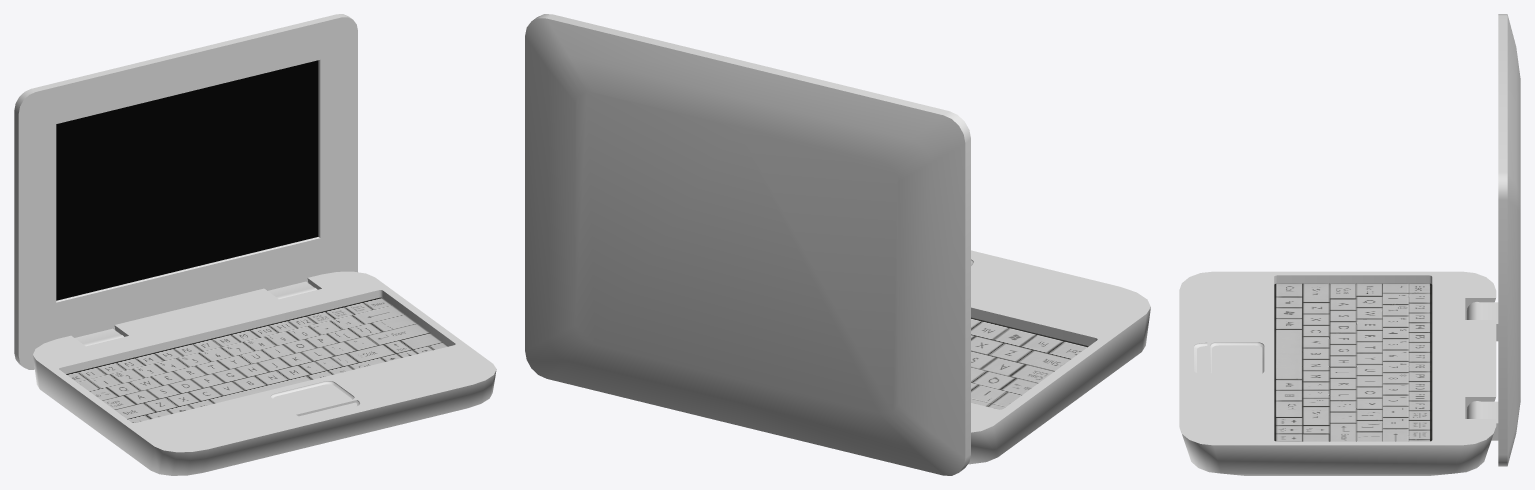
File: computer.glb
The picture shows the model from 3 angles, left to right: view 1: azimuth 30°, elevation 25°; view 2: azimuth 150°, elevation 25°; view 3: azimuth 270°, elevation 25°; orthographic projection. The views are drawn at different scales.
Visible parts, largest first — view 1: screen, keyboard; view 2: screen, keyboard; view 3: keyboard, screen.
Part boxes in pixels (bbox=[...]): screen: bbox=[14, 14, 357, 369]; keyboard: bbox=[33, 271, 496, 475]; screen: bbox=[525, 14, 970, 475]; keyboard: bbox=[968, 250, 1150, 464]; keyboard: bbox=[1179, 271, 1496, 475]; screen: bbox=[1466, 14, 1520, 466].
Bounding box in the file's own units: 6.37 × 5.14 × 5.28.
4 materials, 1 textured.
